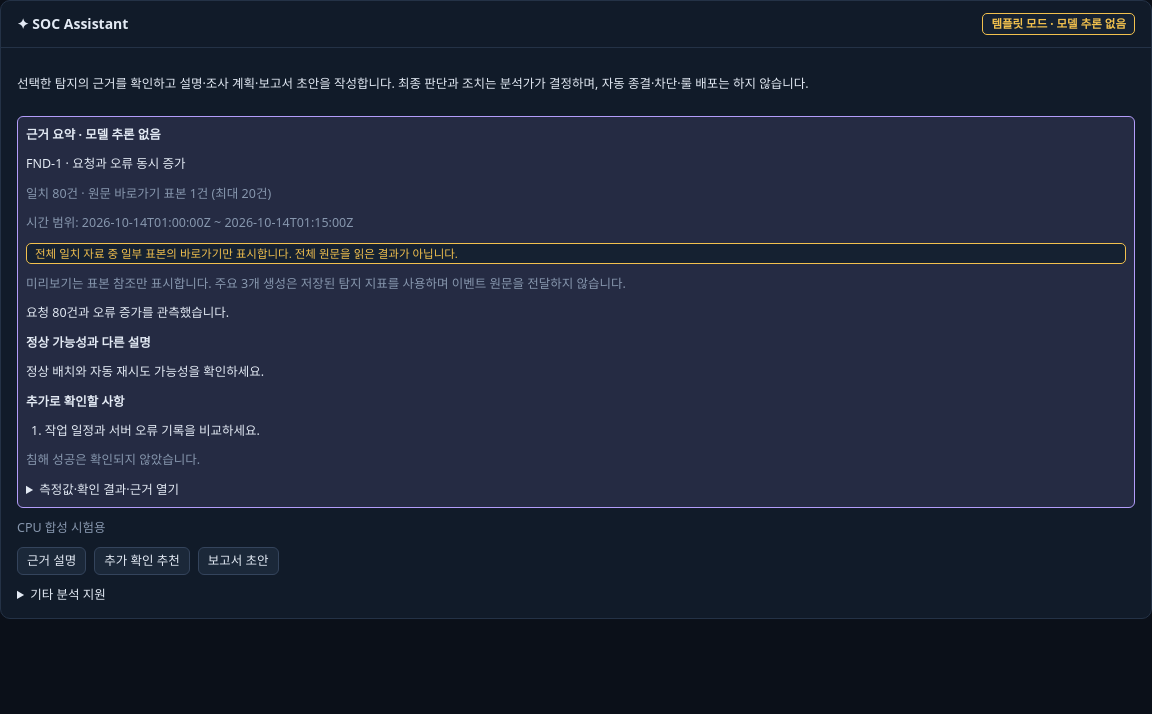
Test: distinguishes a deterministic template from actual model inference
Expected: the text "요청 80건과 오류 증가를 관측했습니다." is shown, [26,304,229,322]
Click the button "근거 설명".
click(52, 561)  # box [17,548,86,575]
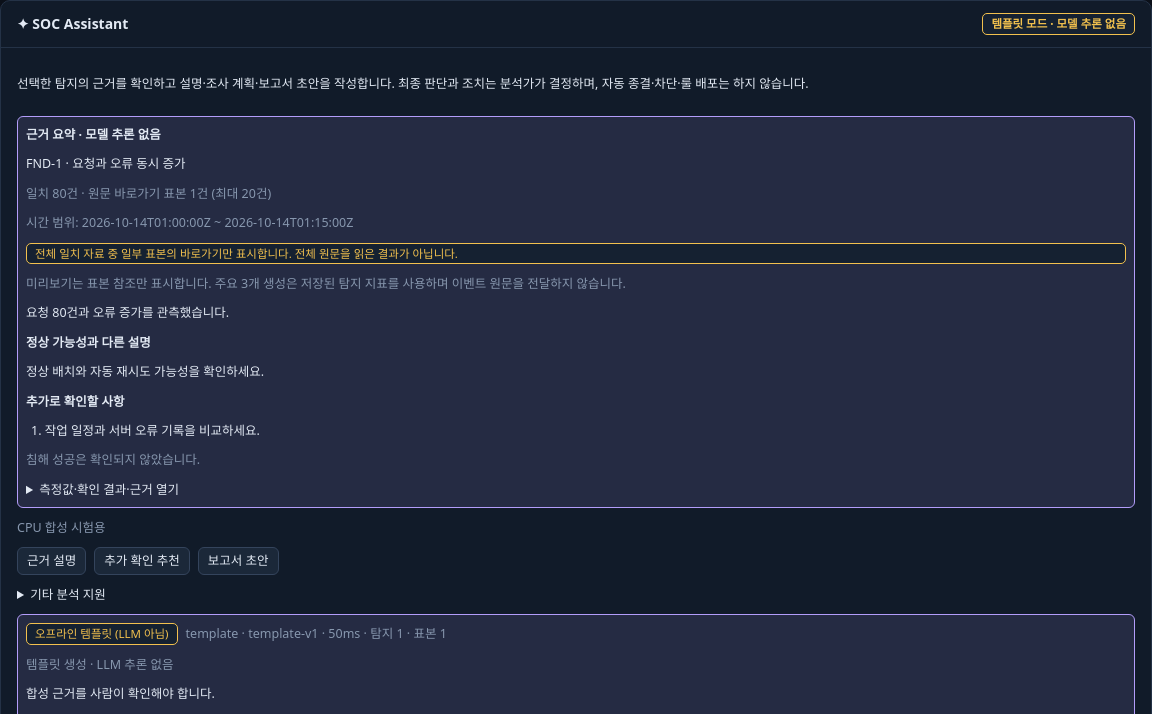
Expected: the text "템플릿 생성 · LLM 추론 없음" is shown, [26,656,174,673]
Expected: the text "합성 근거를 사람이 확인해야 합니다." is shown, [26,685,215,702]
